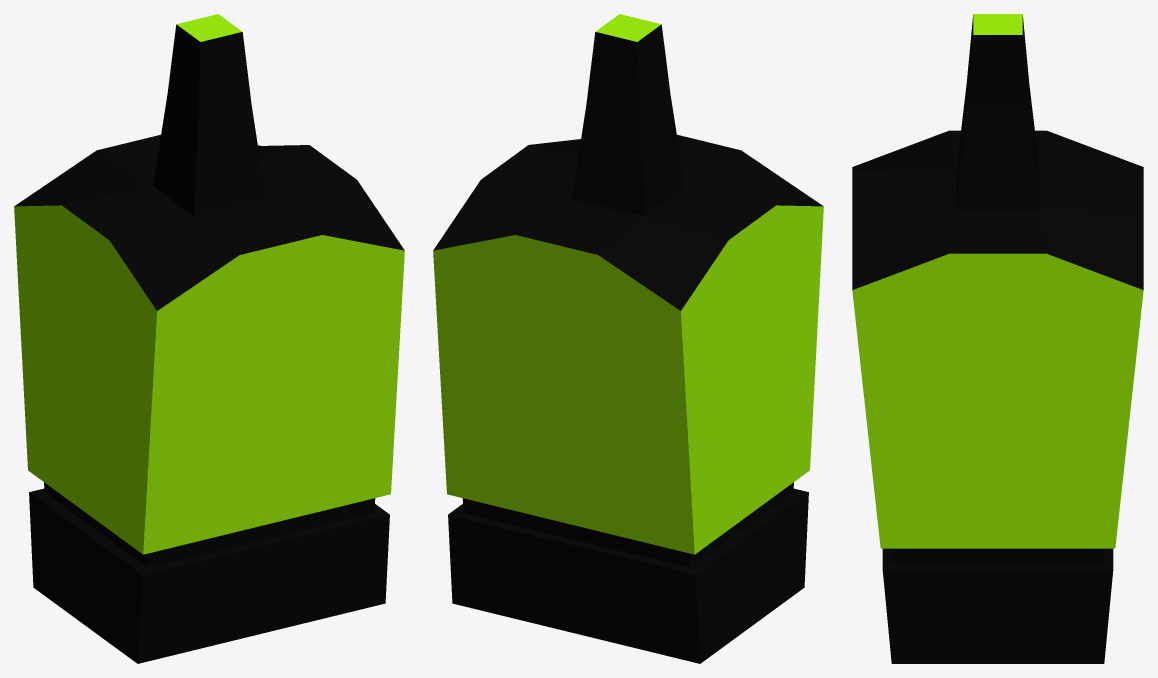
Rendered from bottle1.fbx.
The picture shows the model from 3 angles, left to right: view 1: azimuth 30°, elevation 25°; view 2: azimuth 150°, elevation 25°; view 3: azimuth 270°, elevation 25°; orthographic projection.
Visible parts, largest first — view 1: bottle5.002; view 2: bottle5.002; view 3: bottle5.002.
Part boxes in pixels (<box>): bottle5.002: <box>14,14,404,663</box>; bottle5.002: <box>433,14,823,663</box>; bottle5.002: <box>852,14,1143,663</box>.
Size of the model in its own units: 0.0283 by 0.0619 by 0.0283.
